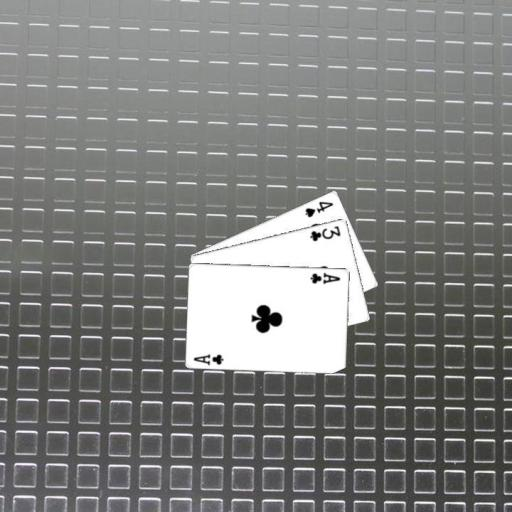3C: (307, 223, 342, 243)
4S: (302, 198, 335, 218)
AC: (308, 269, 341, 285), (191, 351, 226, 366)
